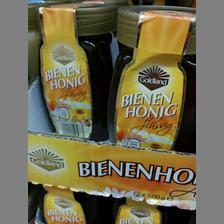Honig: (112, 4, 196, 152), (36, 1, 116, 141)
